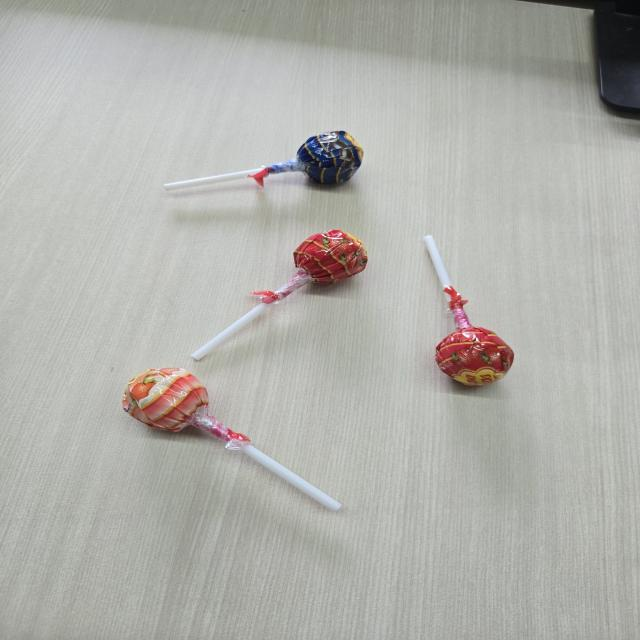lollipop: (120, 366, 346, 512), (184, 227, 373, 364), (416, 230, 516, 392), (158, 126, 370, 200)
